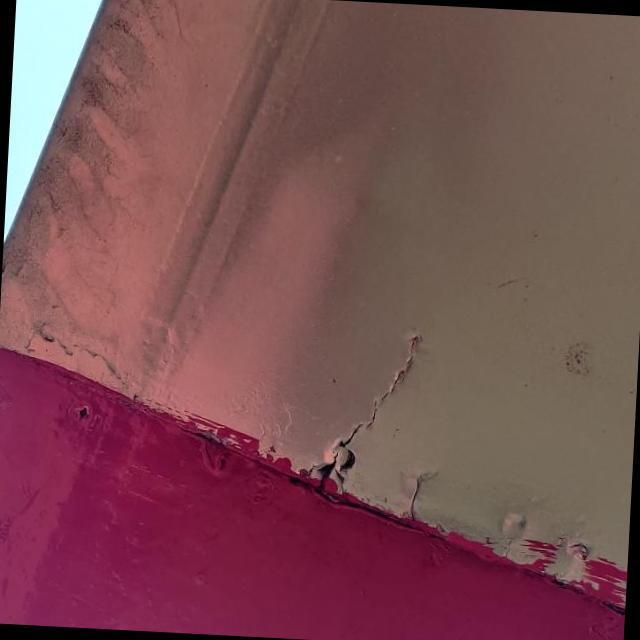dent: (182, 429, 240, 473)
